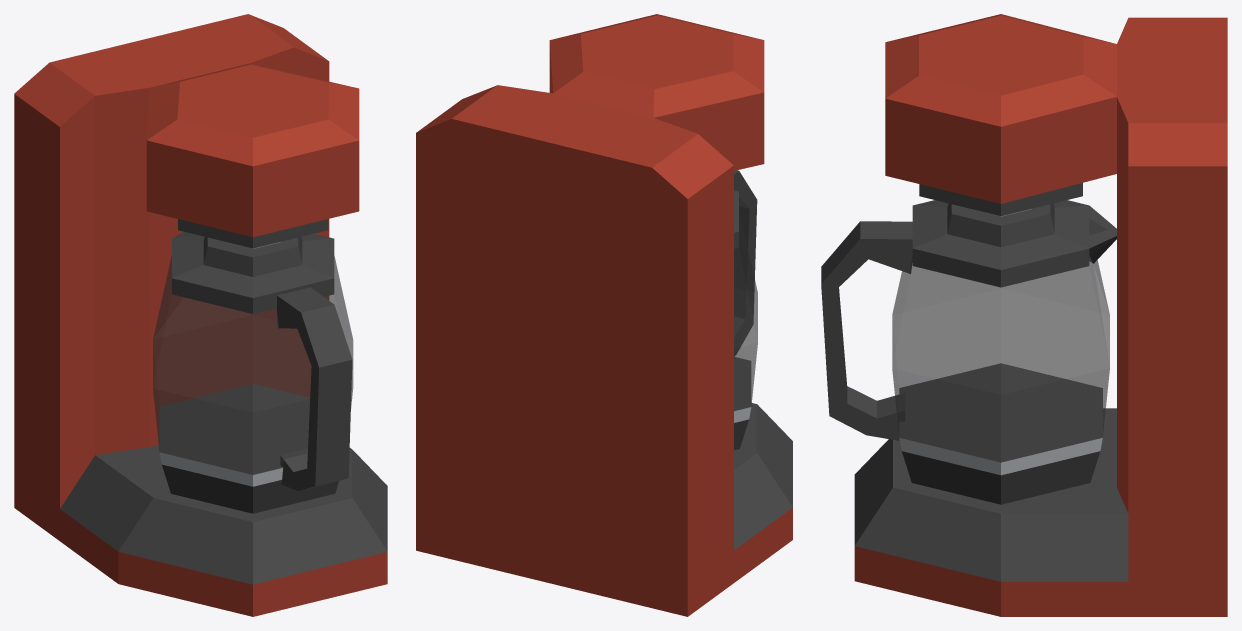
Rendered from SM_Prop_CoffeeMachine_01.fbx.
3 views of the same model, side by side, from view 1: azimuth 30°, elevation 25°; view 2: azimuth 150°, elevation 25°; view 3: azimuth 270°, elevation 25° (orthographic). The views are drawn at different scales.
Visible parts, largest first — view 1: SM_Prop_CoffeeMachine_01, SM_Prop_Coffee_Pot_01; view 2: SM_Prop_CoffeeMachine_01, SM_Prop_Coffee_Pot_01; view 3: SM_Prop_CoffeeMachine_01, SM_Prop_Coffee_Pot_01.
Boxes of the visible parts, x1,y1,x2,y2 form: SM_Prop_CoffeeMachine_01: (14, 14, 387, 616); SM_Prop_Coffee_Pot_01: (153, 231, 353, 513); SM_Prop_CoffeeMachine_01: (416, 14, 792, 616); SM_Prop_Coffee_Pot_01: (734, 170, 757, 450); SM_Prop_CoffeeMachine_01: (854, 14, 1227, 616); SM_Prop_Coffee_Pot_01: (821, 200, 1116, 504).
Size of the model in its own units: 30.34 by 48.46 by 36.46.
